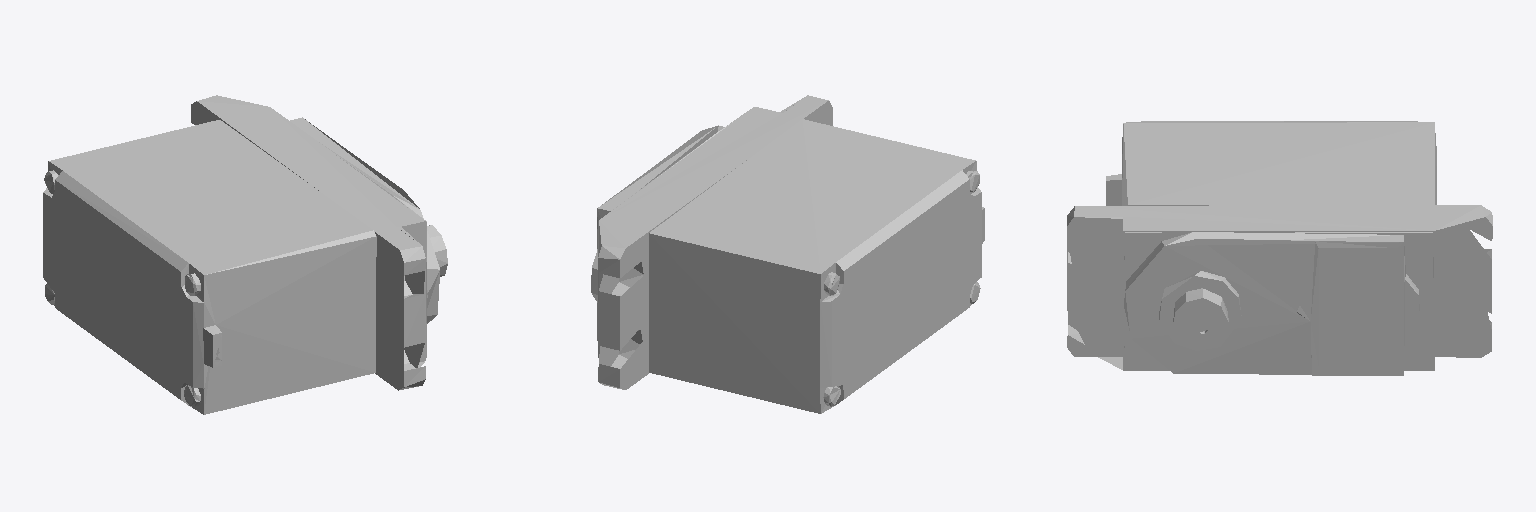
Rendered from optimizedMotor.obj.
The picture shows the model from 3 angles: view 1: azimuth 30°, elevation 25°; view 2: azimuth 150°, elevation 25°; view 3: azimuth 270°, elevation 25°; orthographic projection.
Parts seen in each view (by area): view 1: black_motor; view 2: black_motor; view 3: black_motor.
Part boxes in pixels (bbox=[...]): black_motor: bbox=[43, 95, 447, 414]; black_motor: bbox=[591, 95, 984, 413]; black_motor: bbox=[1067, 121, 1492, 375].
Bounding box in the file's own units: 1.6 × 0.7888 × 2.13.